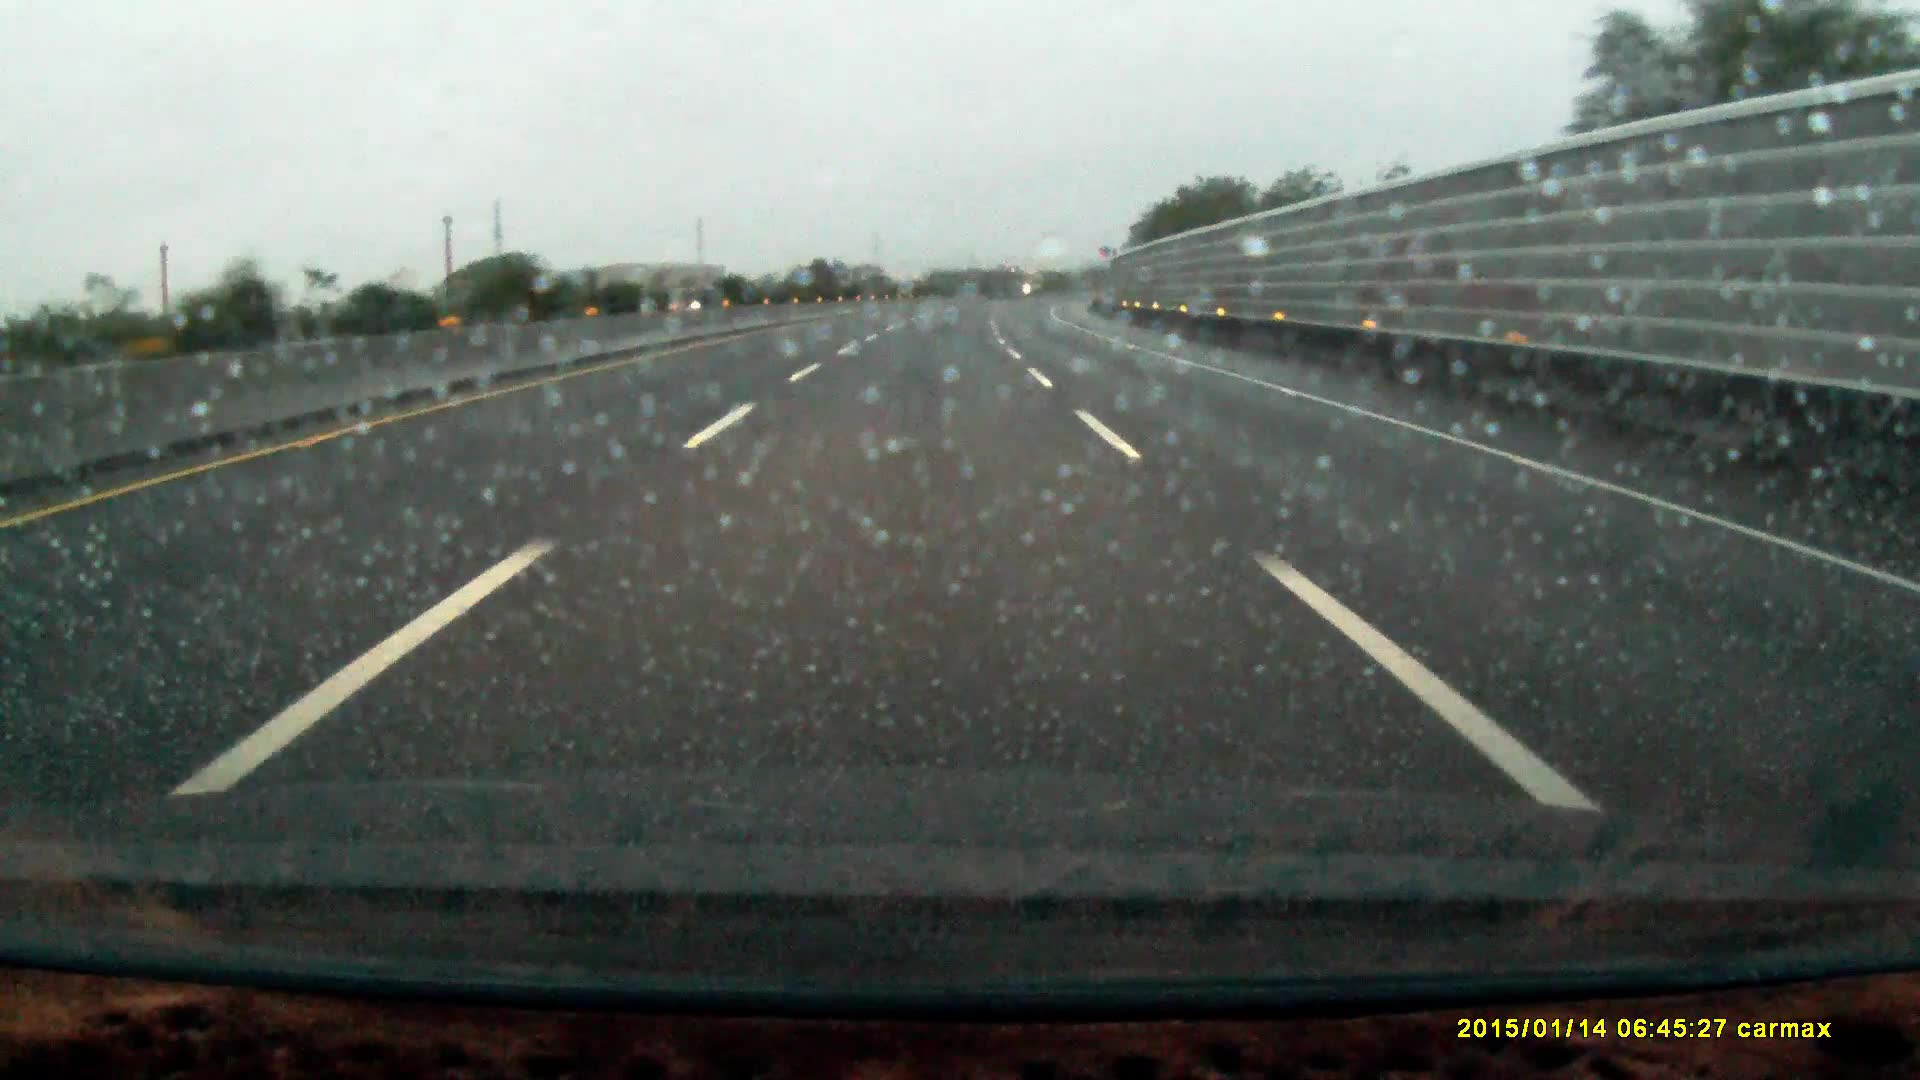vehicle: (655, 287, 719, 311)
